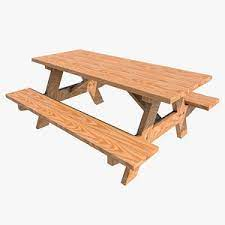obstacle: (6, 48, 219, 188)
